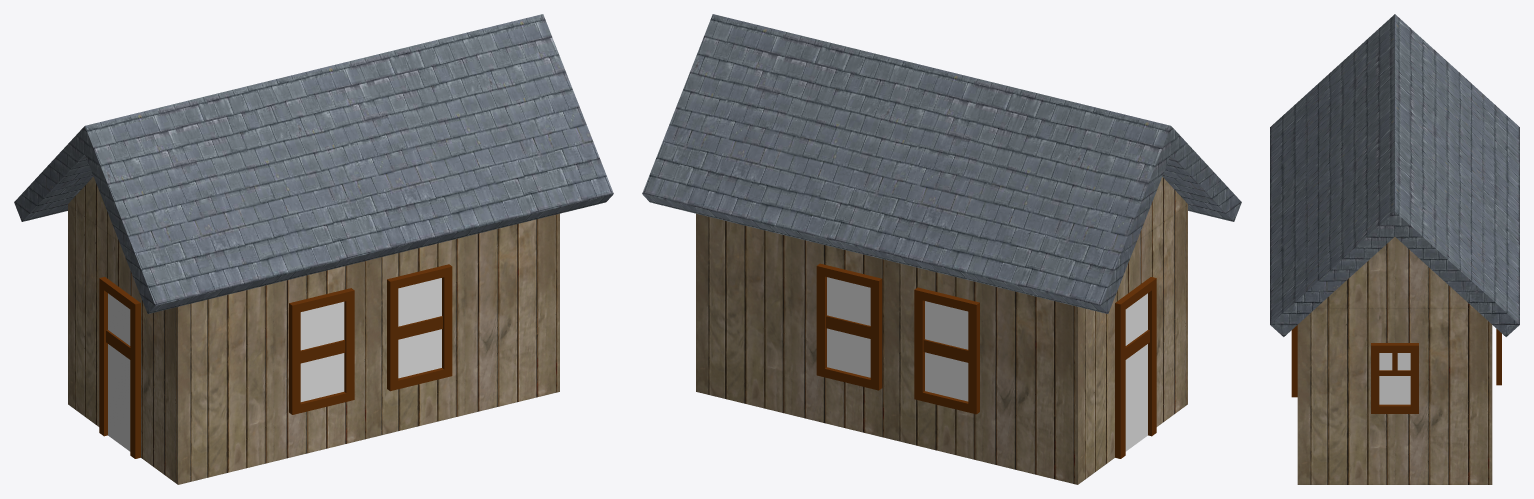
Rendered from Small_Building.glb.
The picture shows the model from 3 angles, left to right: view 1: azimuth 30°, elevation 25°; view 2: azimuth 150°, elevation 25°; view 3: azimuth 270°, elevation 25°; orthographic projection. The views are drawn at different scales.
Visible parts, largest first — view 1: mergedBlocks(Clone); view 2: mergedBlocks(Clone); view 3: mergedBlocks(Clone).
Boxes of the visible parts, <box> form: mergedBlocks(Clone): <box>14,14,613,484</box>; mergedBlocks(Clone): <box>642,14,1241,484</box>; mergedBlocks(Clone): <box>1270,14,1519,484</box>.
Bounding box in the file's own units: 2.4 × 1.64 × 1.28.
Materials: 4 (2 with a texture image).
